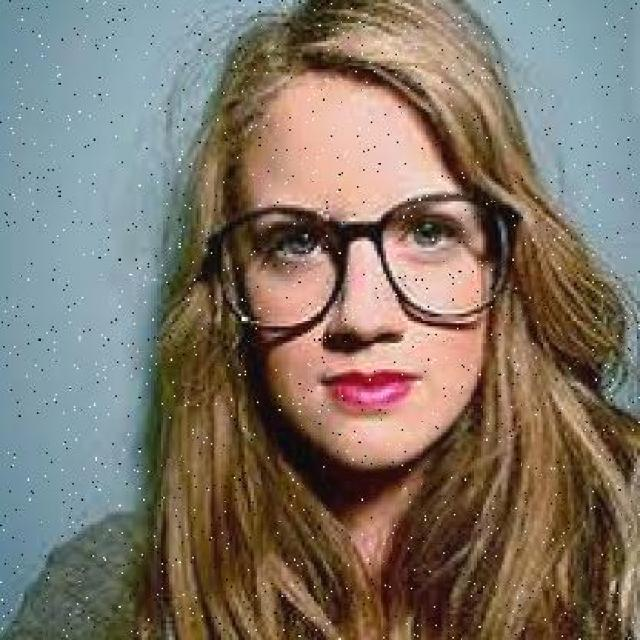glasses: (194, 182, 532, 346)
